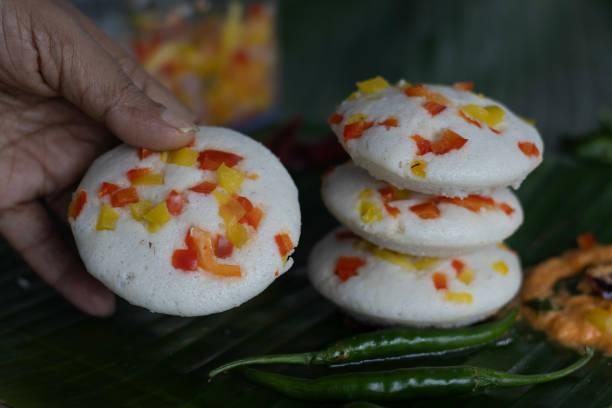coconut chutney: (524, 237, 612, 362)
idli: (321, 69, 531, 329), (90, 149, 306, 309)
